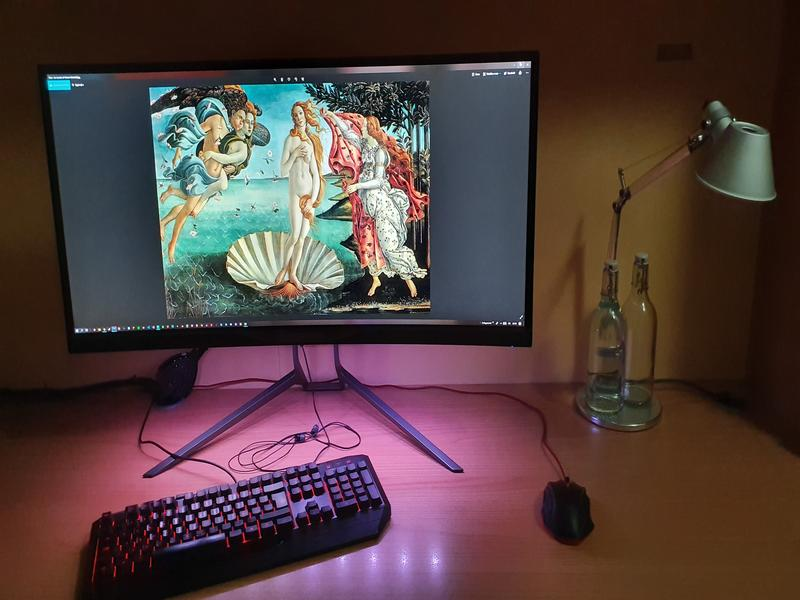Venere: (143, 79, 434, 323)
